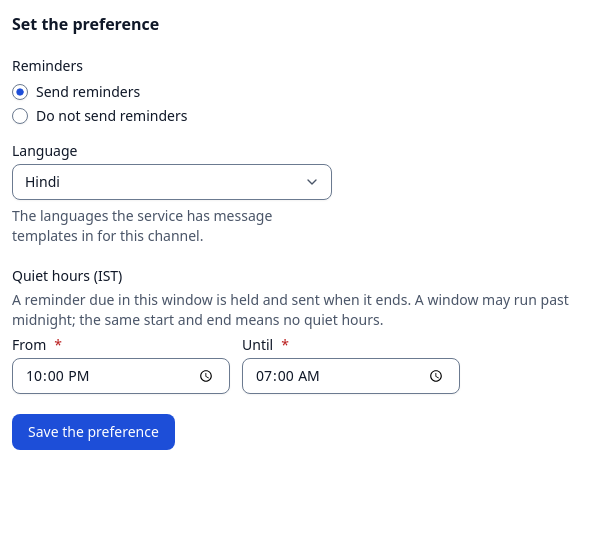
Test: PreferenceForm › puts the submitted values back after a refusal
The width and height of the screenshot is (605, 557).
Step 1. Select "English" in the dropdown labelled "Language" → (172, 182), box [12,164,332,200]
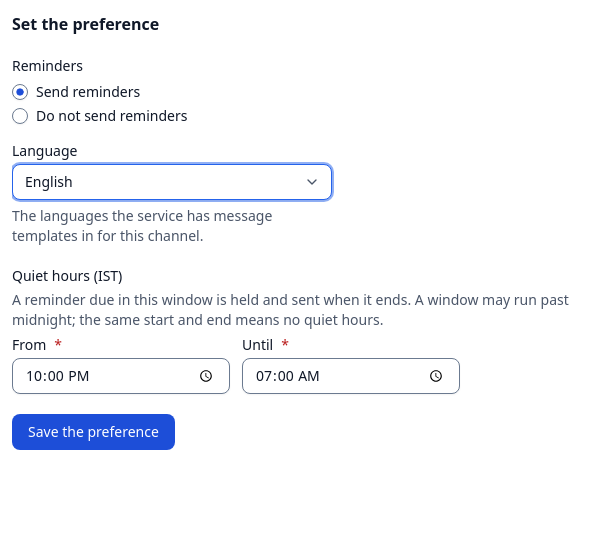
Step 2. Click the radio button named "Do not send reminders" next to "Do not send reminders" → click(20, 116), box [12,108,28,124]
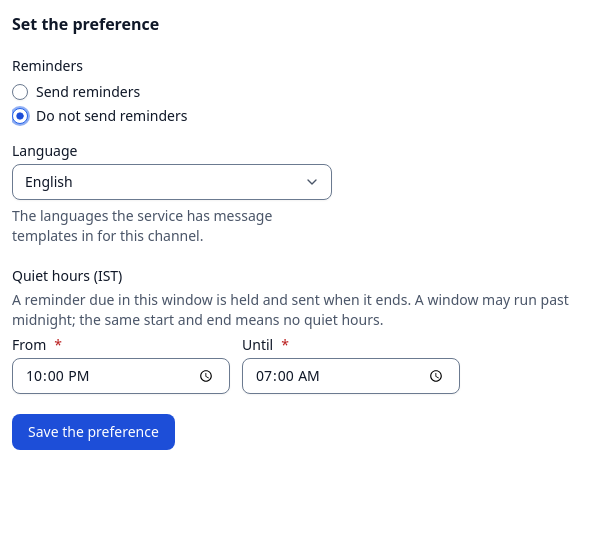
Step 3. Click the button "Save the preference" → click(93, 432), box [12,414,175,450]
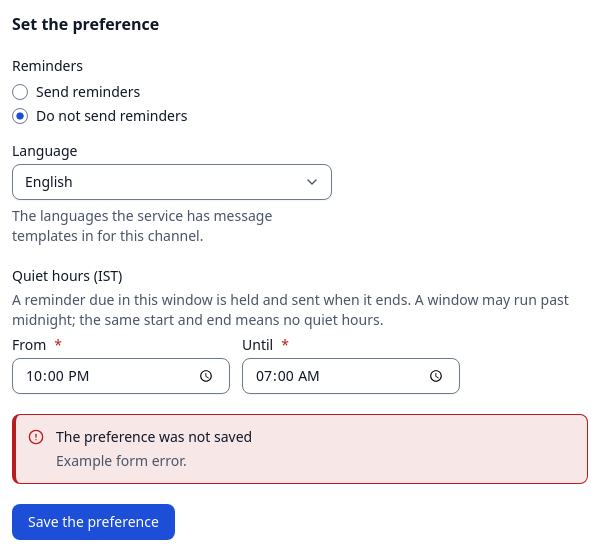
Result: the dropdown labelled "Language" shows "English" at [12,164,332,200]
Result: the list item "Example form error." is shown at [56,451,187,470]
